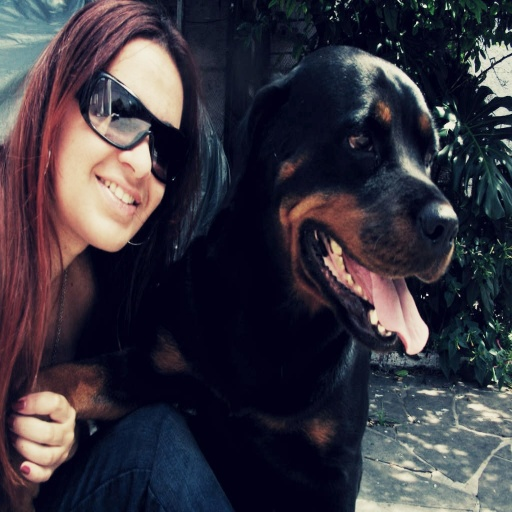hand: (12, 373, 91, 482)
